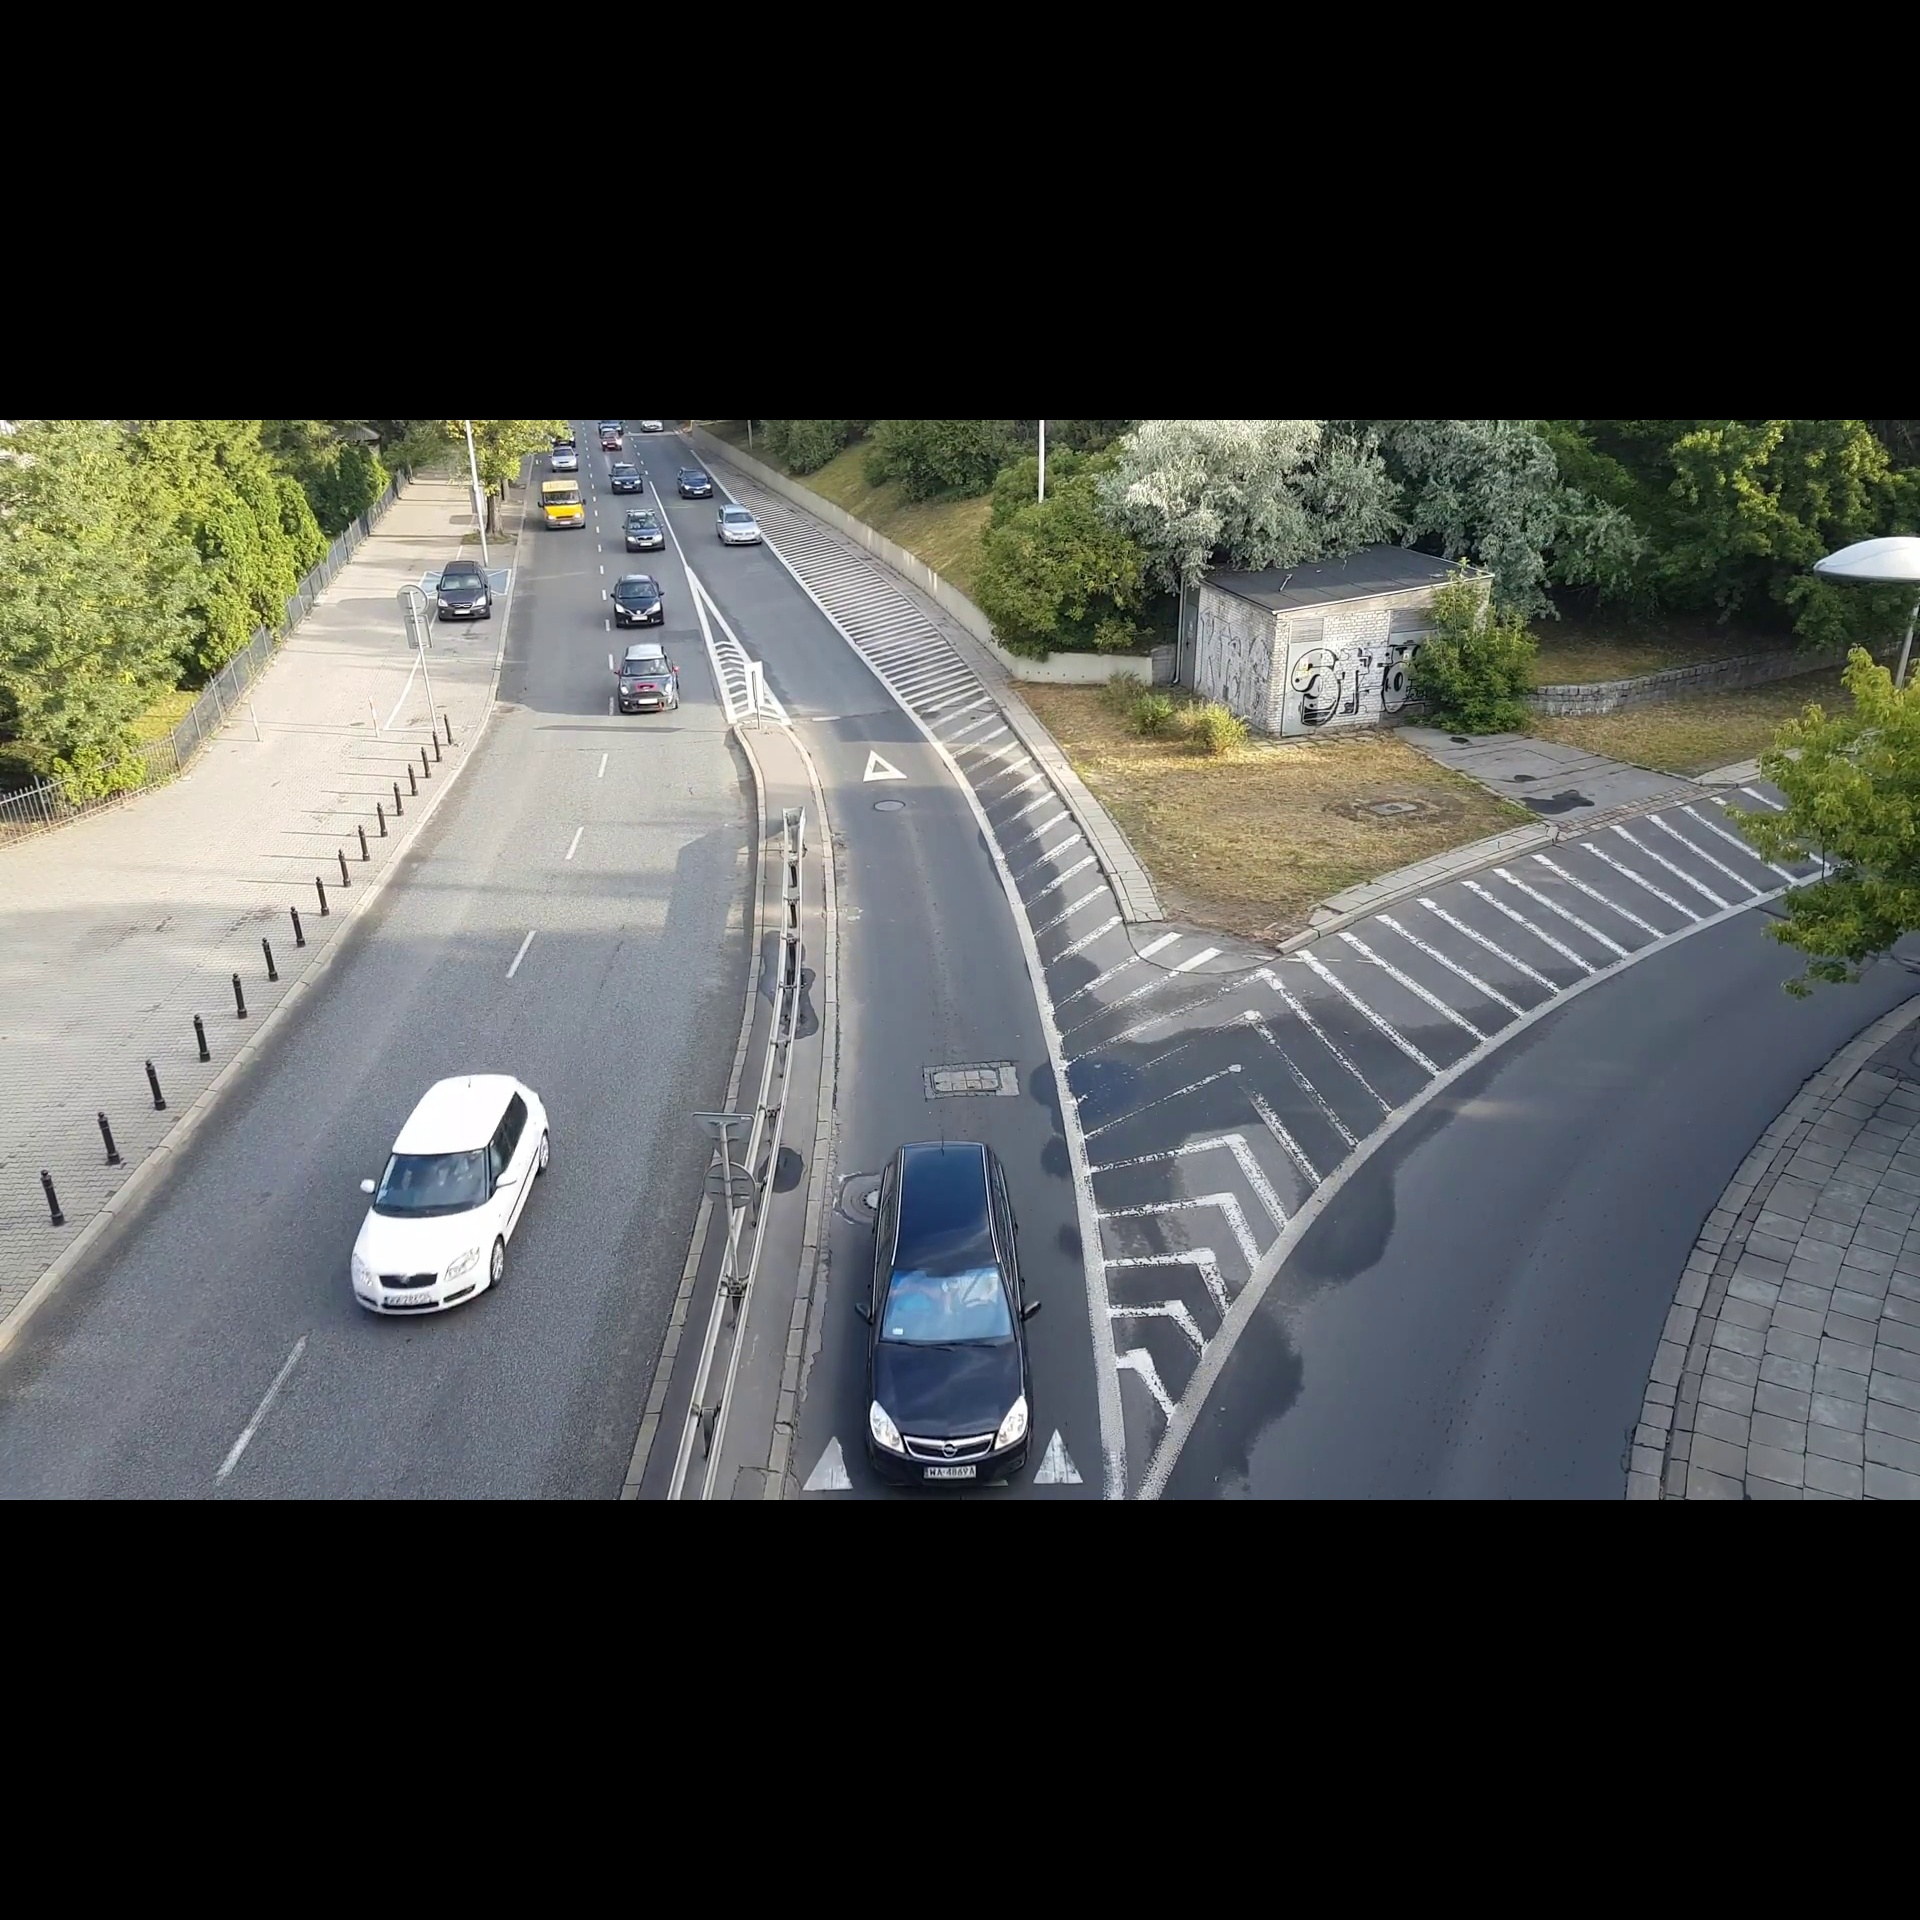vehicle: (853, 1127, 1043, 1495), (336, 1064, 559, 1329), (612, 642, 684, 723), (429, 552, 498, 624), (607, 570, 670, 636), (712, 496, 765, 552), (535, 476, 587, 529), (617, 505, 666, 557), (607, 461, 645, 498), (673, 466, 714, 499), (547, 445, 580, 473), (600, 433, 624, 452)
